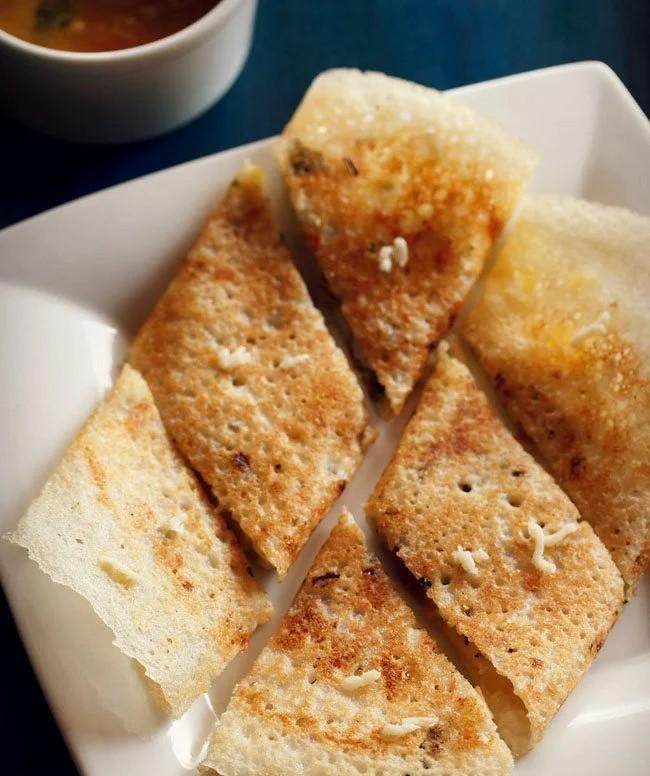Dosa: (123, 152, 376, 574), (367, 338, 623, 750), (0, 353, 276, 715), (273, 69, 538, 413), (201, 508, 516, 776), (457, 199, 650, 586)
